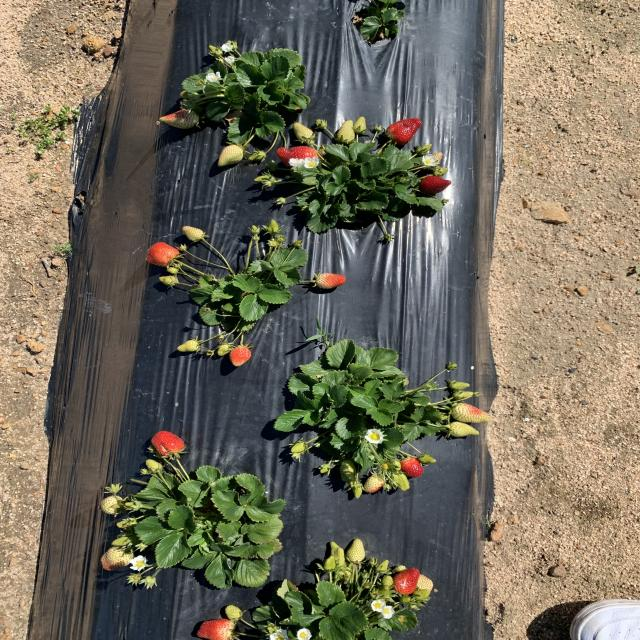unripe: (273, 146, 326, 170), (385, 114, 427, 144), (147, 429, 188, 457), (388, 568, 421, 598), (193, 619, 240, 640), (420, 173, 455, 197), (146, 242, 181, 266), (398, 456, 428, 479), (228, 346, 254, 368), (313, 273, 346, 290)
